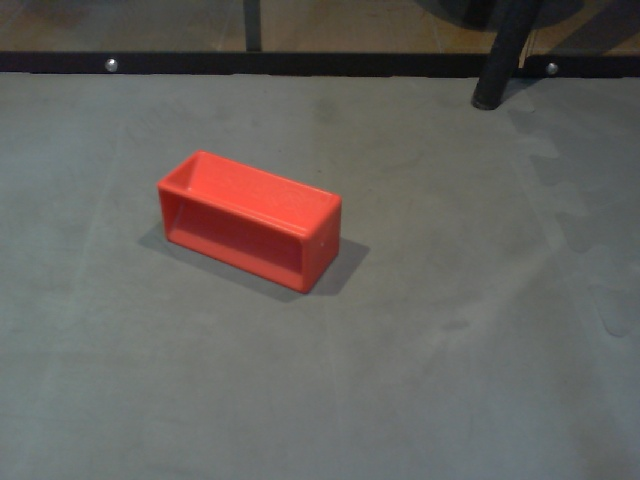RedSample: (156, 148, 345, 299)
